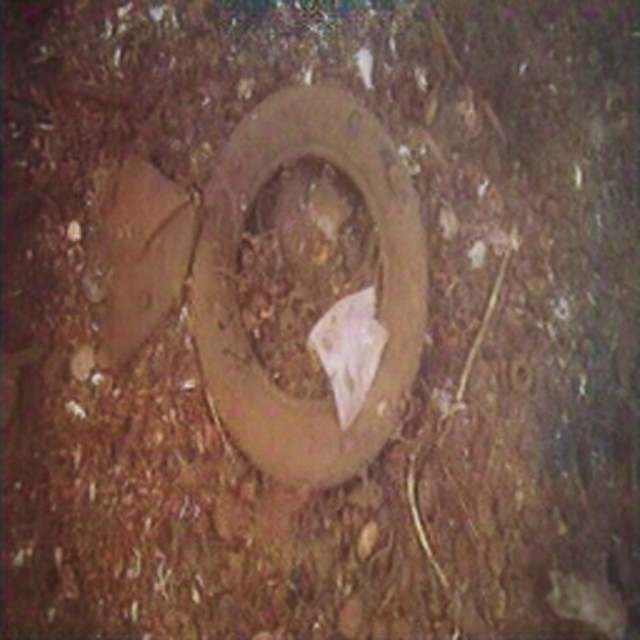mine: (192, 82, 430, 492)
